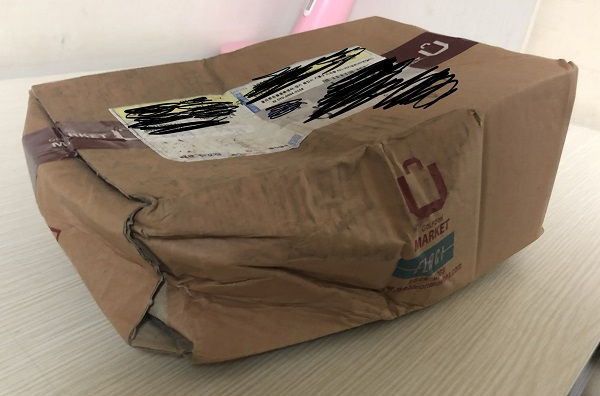damaged package: (114, 194, 397, 361)
